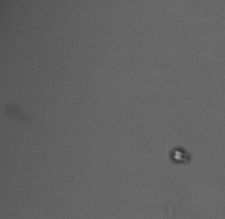Living Cell: (170, 146, 191, 165)
